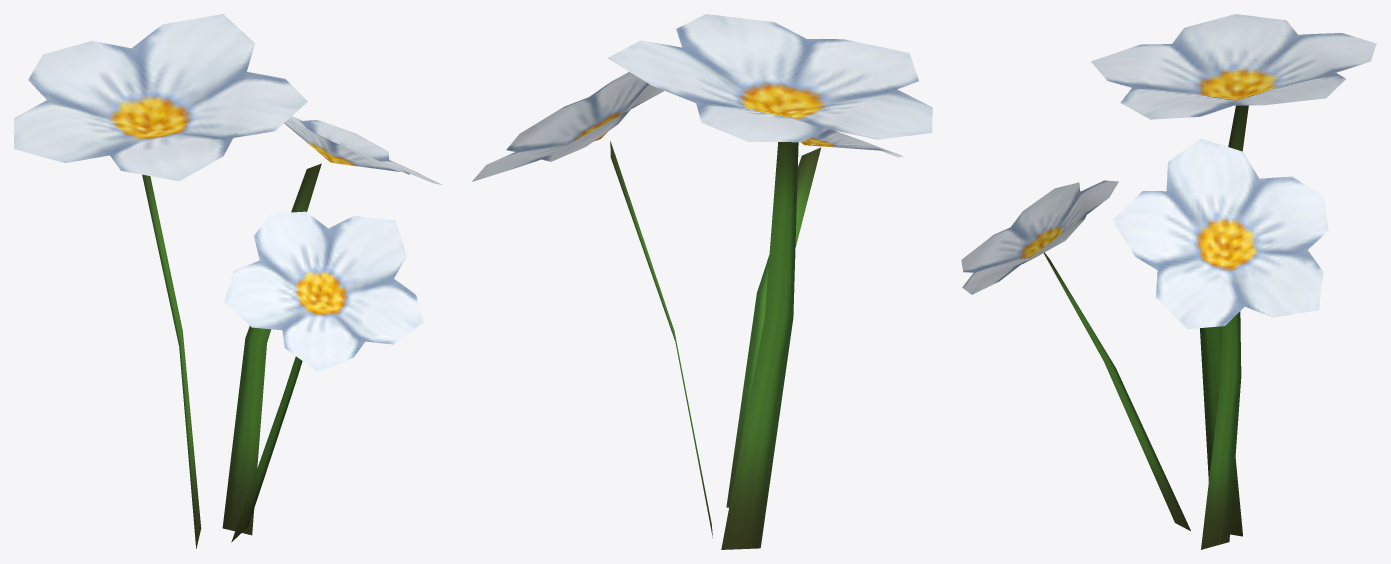
File: Garden_flower_white.fbx
3 views of the same model, side by side, from view 1: azimuth 30°, elevation 25°; view 2: azimuth 150°, elevation 25°; view 3: azimuth 270°, elevation 25° (orthographic). The views are drawn at different scales.
Parts seen in each view (by area): view 1: Garden_flower_white; view 2: Garden_flower_white; view 3: Garden_flower_white.
Boxes of the visible parts, left/top/right/bottom form: Garden_flower_white: left=14, top=14, right=441, bottom=548; Garden_flower_white: left=472, top=14, right=932, bottom=549; Garden_flower_white: left=961, top=14, right=1376, bottom=549.
Size of the model in its own units: 31.6 by 35.32 by 28.04.
Materials: 1 (1 with a texture image).
